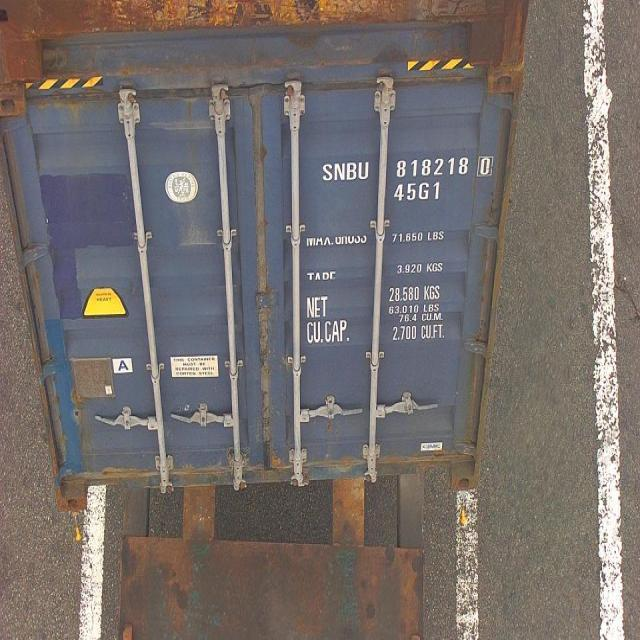ISO: (395, 183, 442, 202)
container_number: (326, 156, 488, 178)
